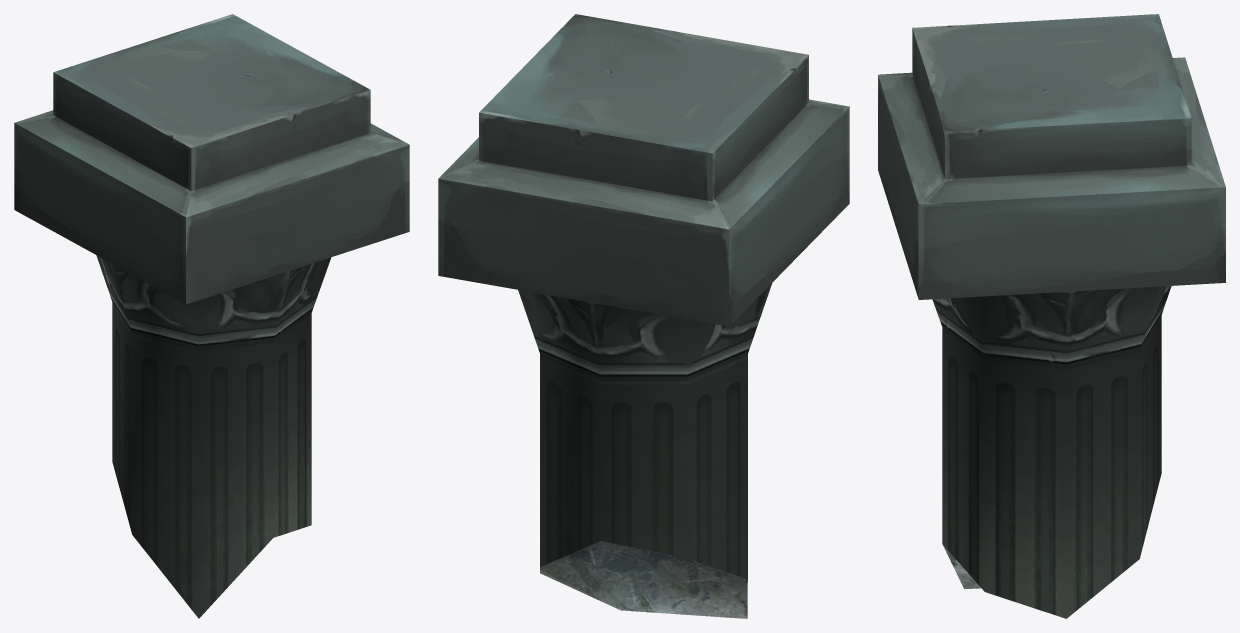
The model's file is Posun_SJBoss_Shizhu_02.FBX.
3 views of the same model, side by side, from view 1: azimuth 30°, elevation 25°; view 2: azimuth 150°, elevation 25°; view 3: azimuth 270°, elevation 25° (orthographic). The views are drawn at different scales.
Visible parts, largest first — view 1: Posun_SJBoss_Shizhu_02; view 2: Posun_SJBoss_Shizhu_02; view 3: Posun_SJBoss_Shizhu_02.
Part boxes in pixels (box(x1,y1,x2,y2)): Posun_SJBoss_Shizhu_02: box(14, 14, 409, 618); Posun_SJBoss_Shizhu_02: box(438, 14, 849, 618); Posun_SJBoss_Shizhu_02: box(878, 14, 1225, 618).
Bounding box in the file's own units: 67.2 × 116 × 67.2.
